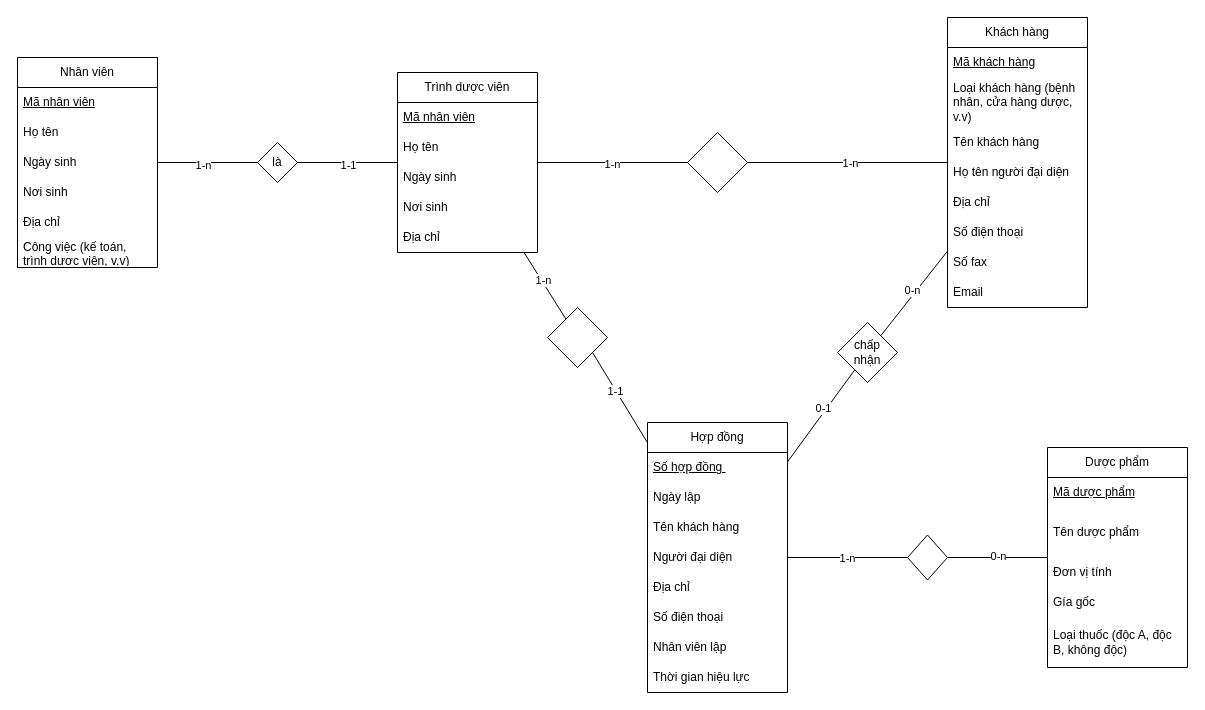
Image size: 1205x710. Some labels were removed from this diagram. The centre of each missing label's shape, as x and y in pixels:
chào hàng: point (717, 162)
có: point (927, 557)
lập: point (577, 337)
